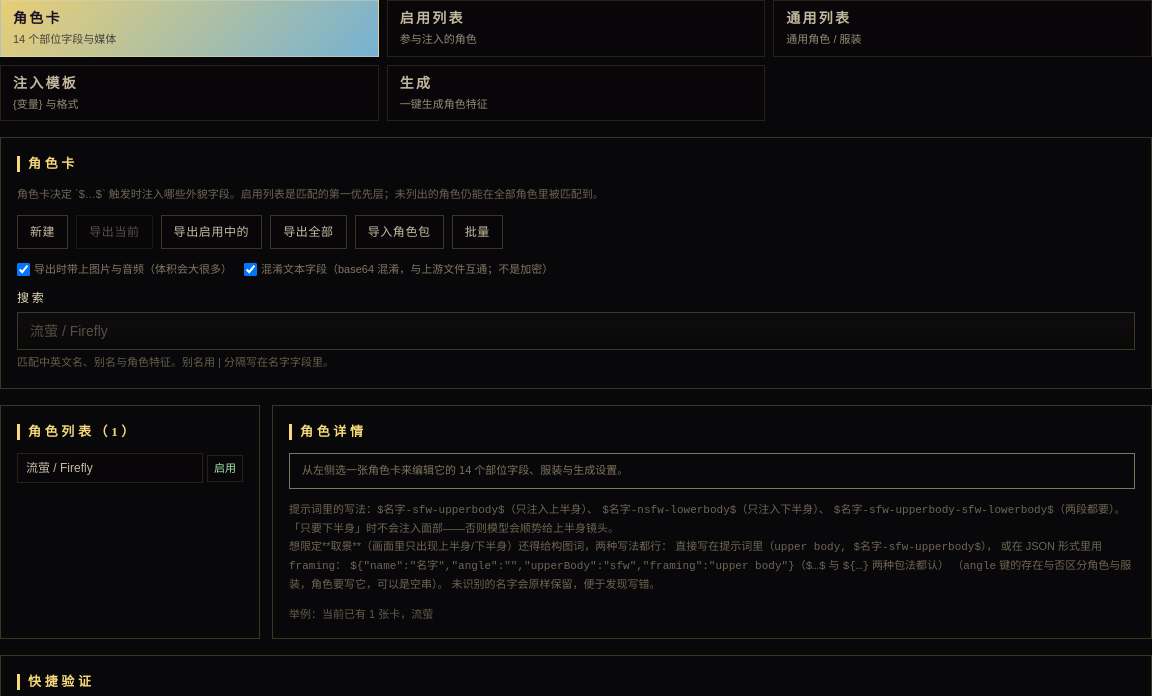
Scenario: 角色管理面板 › 模型没给出可解析区块时提示并把原始回复摆出来
The width and height of the screenshot is (1152, 696).
Click the button "生成 一键生成角色特征" at (416, 83), box x1=387 y1=64 x2=765 y2=121
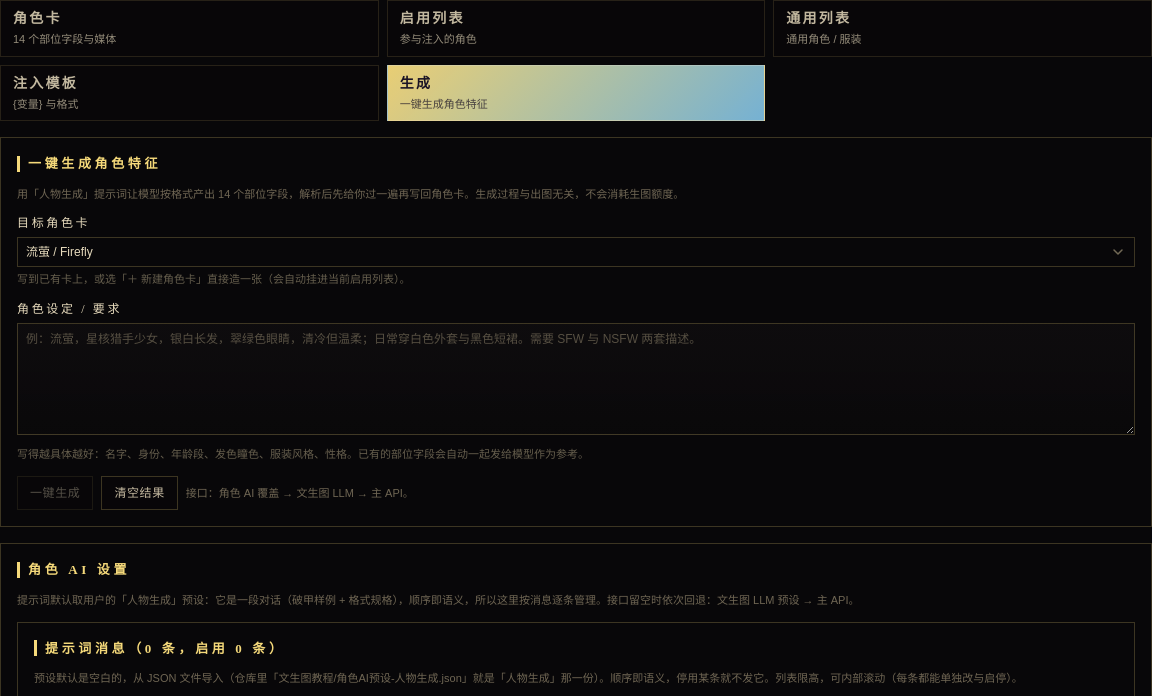
Replace the text in the text box with placeholder "流萤，星核猎手少女" with "流萤" at (576, 379), box x1=17 y1=323 x2=1135 y2=435
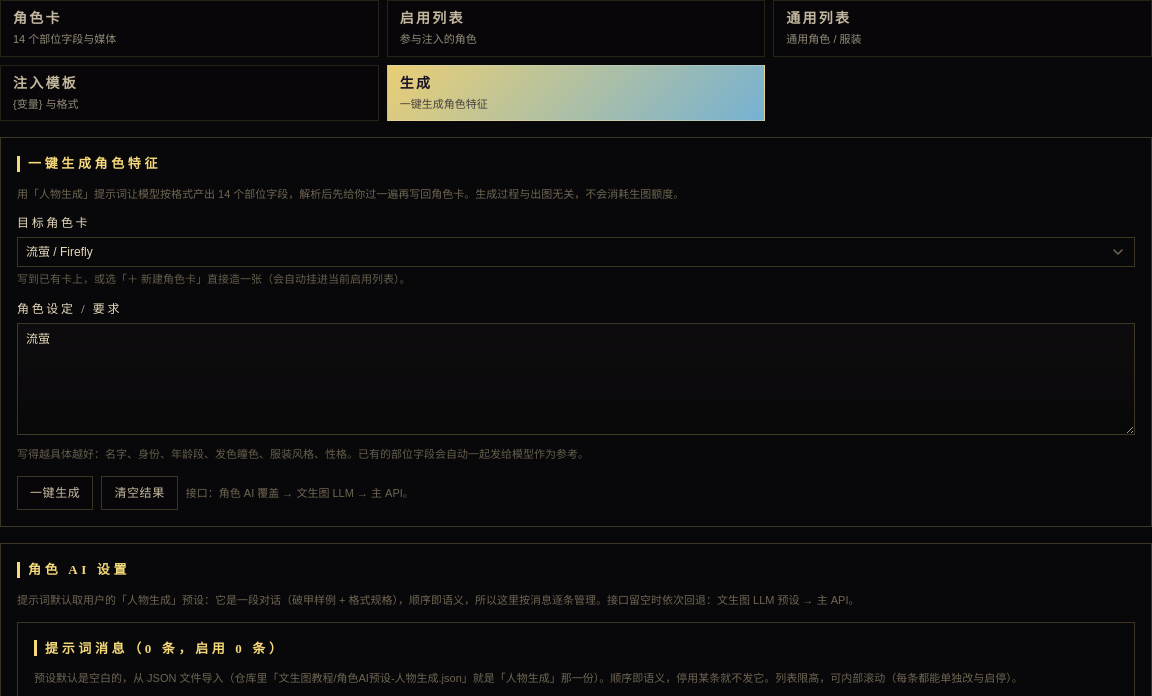
Click the button "一键生成" at (55, 493), box x1=17 y1=476 x2=93 y2=510
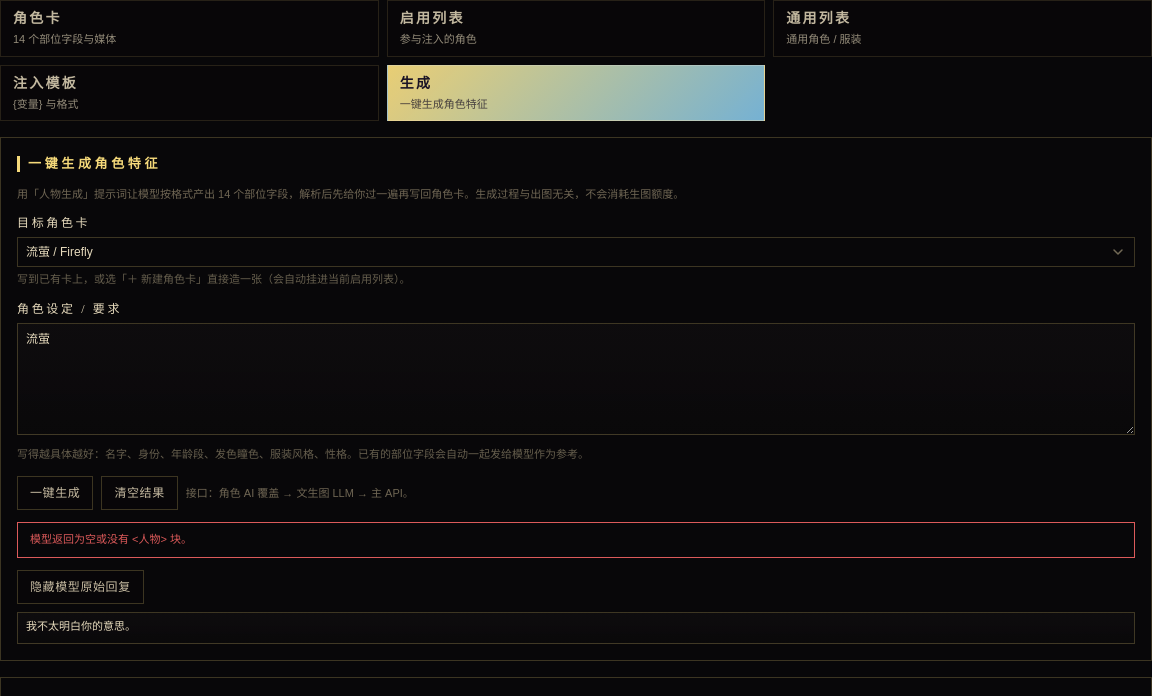
Expected: the text "模型返回为空或没有 <人物> 块。" is shown, x1=17 y1=522 x2=1135 y2=558
Expected: the text "我不太明白你的意思。" is shown, x1=17 y1=612 x2=1135 y2=644
